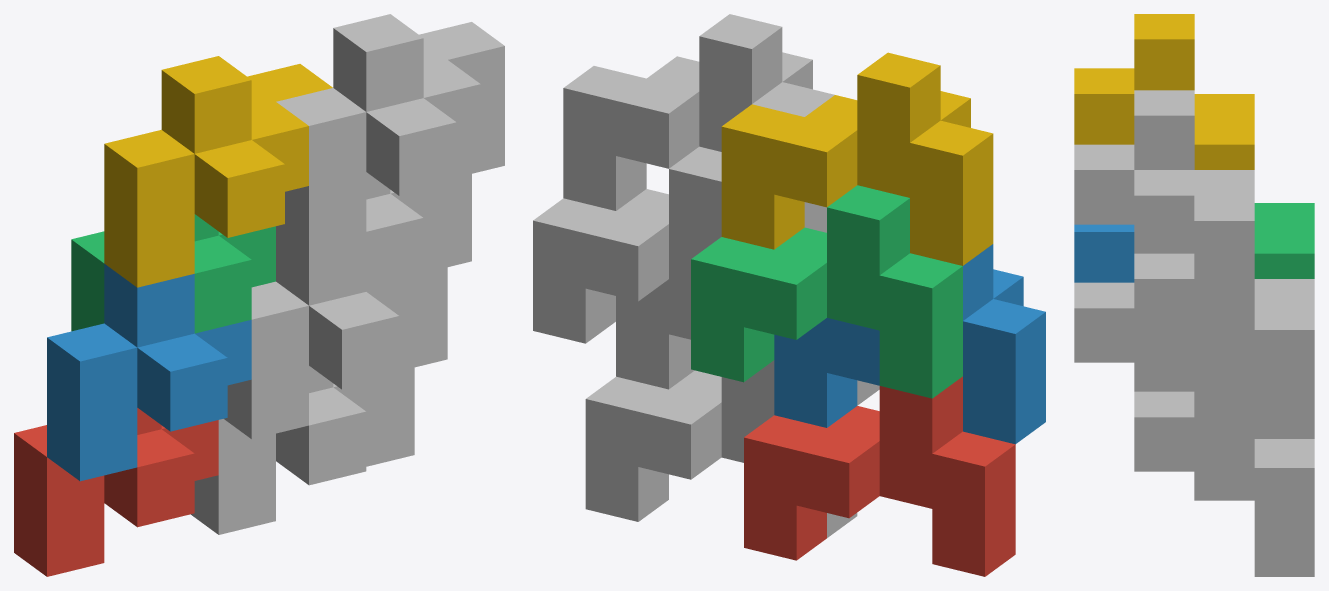
Rendered from tiling.obj.
3 views of the same model, side by side, from view 1: azimuth 30°, elevation 25°; view 2: azimuth 150°, elevation 25°; view 3: azimuth 270°, elevation 25° (orthographic). The views are drawn at different scales.
Visible parts, largest first — view 1: copy_1_domain_8, copy_1_domain_4, copy_1_domain_6, copy_1_domain_2, copy_1_domain_1, copy_1_domain_5, copy_1_domain_3, copy_1_domain_7; view 2: copy_1_domain_4, copy_1_domain_3, copy_1_domain_1, copy_1_domain_8, copy_1_domain_2, copy_1_domain_7, copy_1_domain_5, copy_1_domain_6; view 3: copy_1_domain_8, copy_1_domain_7, copy_1_domain_5, copy_1_domain_6, copy_1_domain_4, copy_1_domain_3, copy_1_domain_2.
Part boxes in pixels (<box>): copy_1_domain_8: <box>276,14,504,245</box>; copy_1_domain_4: <box>104,56,332,287</box>; copy_1_domain_6: <box>224,225,447,439</box>; copy_1_domain_2: <box>47,264,251,481</box>; copy_1_domain_1: <box>14,408,218,576</box>; copy_1_domain_5: <box>191,366,414,534</box>; copy_1_domain_3: <box>71,214,275,333</box>; copy_1_domain_7: <box>366,172,471,291</box>; copy_1_domain_4: <box>721,52,993,265</box>; copy_1_domain_3: <box>691,185,962,398</box>; copy_1_domain_1: <box>744,376,1015,576</box>; copy_1_domain_8: <box>563,14,834,226</box>; copy_1_domain_2: <box>774,244,1045,444</box>; copy_1_domain_7: <box>533,146,721,343</box>; copy_1_domain_5: <box>585,360,857,537</box>; copy_1_domain_6: <box>616,211,879,405</box>; copy_1_domain_8: <box>1074,90,1254,329</box>; copy_1_domain_7: <box>1134,253,1314,438</box>; copy_1_domain_5: <box>1134,391,1314,576</box>; copy_1_domain_6: <box>1074,282,1254,467</box>; copy_1_domain_4: <box>1074,14,1254,169</box>; copy_1_domain_3: <box>1254,203,1314,278</box>; copy_1_domain_2: <box>1074,224,1134,282</box>.
Bounding box in the file's own units: 8 × 8 × 4.
